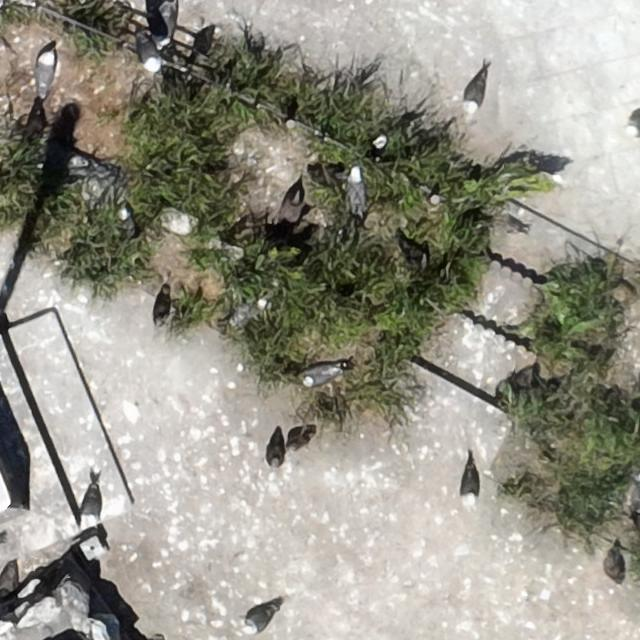umineko: (464, 70, 490, 113), (462, 462, 480, 508), (38, 51, 57, 91), (346, 172, 364, 212), (138, 40, 160, 72), (373, 131, 406, 151), (233, 301, 262, 323), (82, 489, 100, 524), (304, 366, 338, 384), (247, 609, 271, 632), (121, 210, 134, 235)
